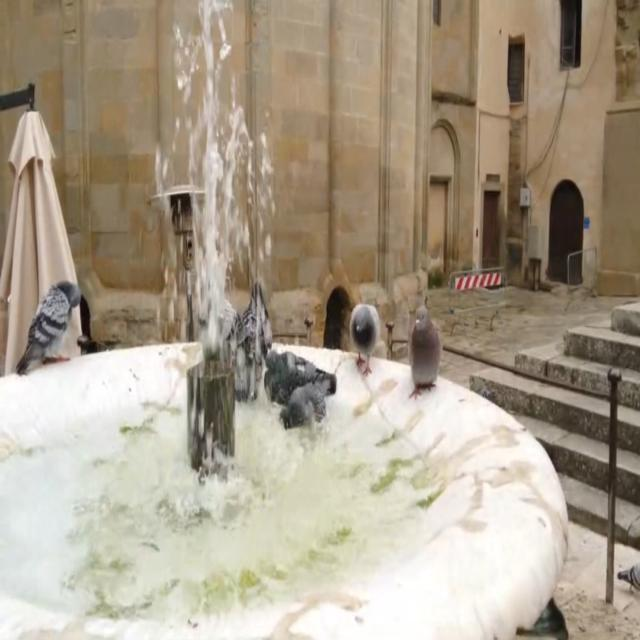bird: (6, 264, 108, 383), (226, 256, 276, 412), (249, 323, 336, 412), (398, 292, 456, 401), (343, 273, 388, 404), (268, 365, 336, 451), (194, 279, 246, 377), (612, 550, 640, 608)
